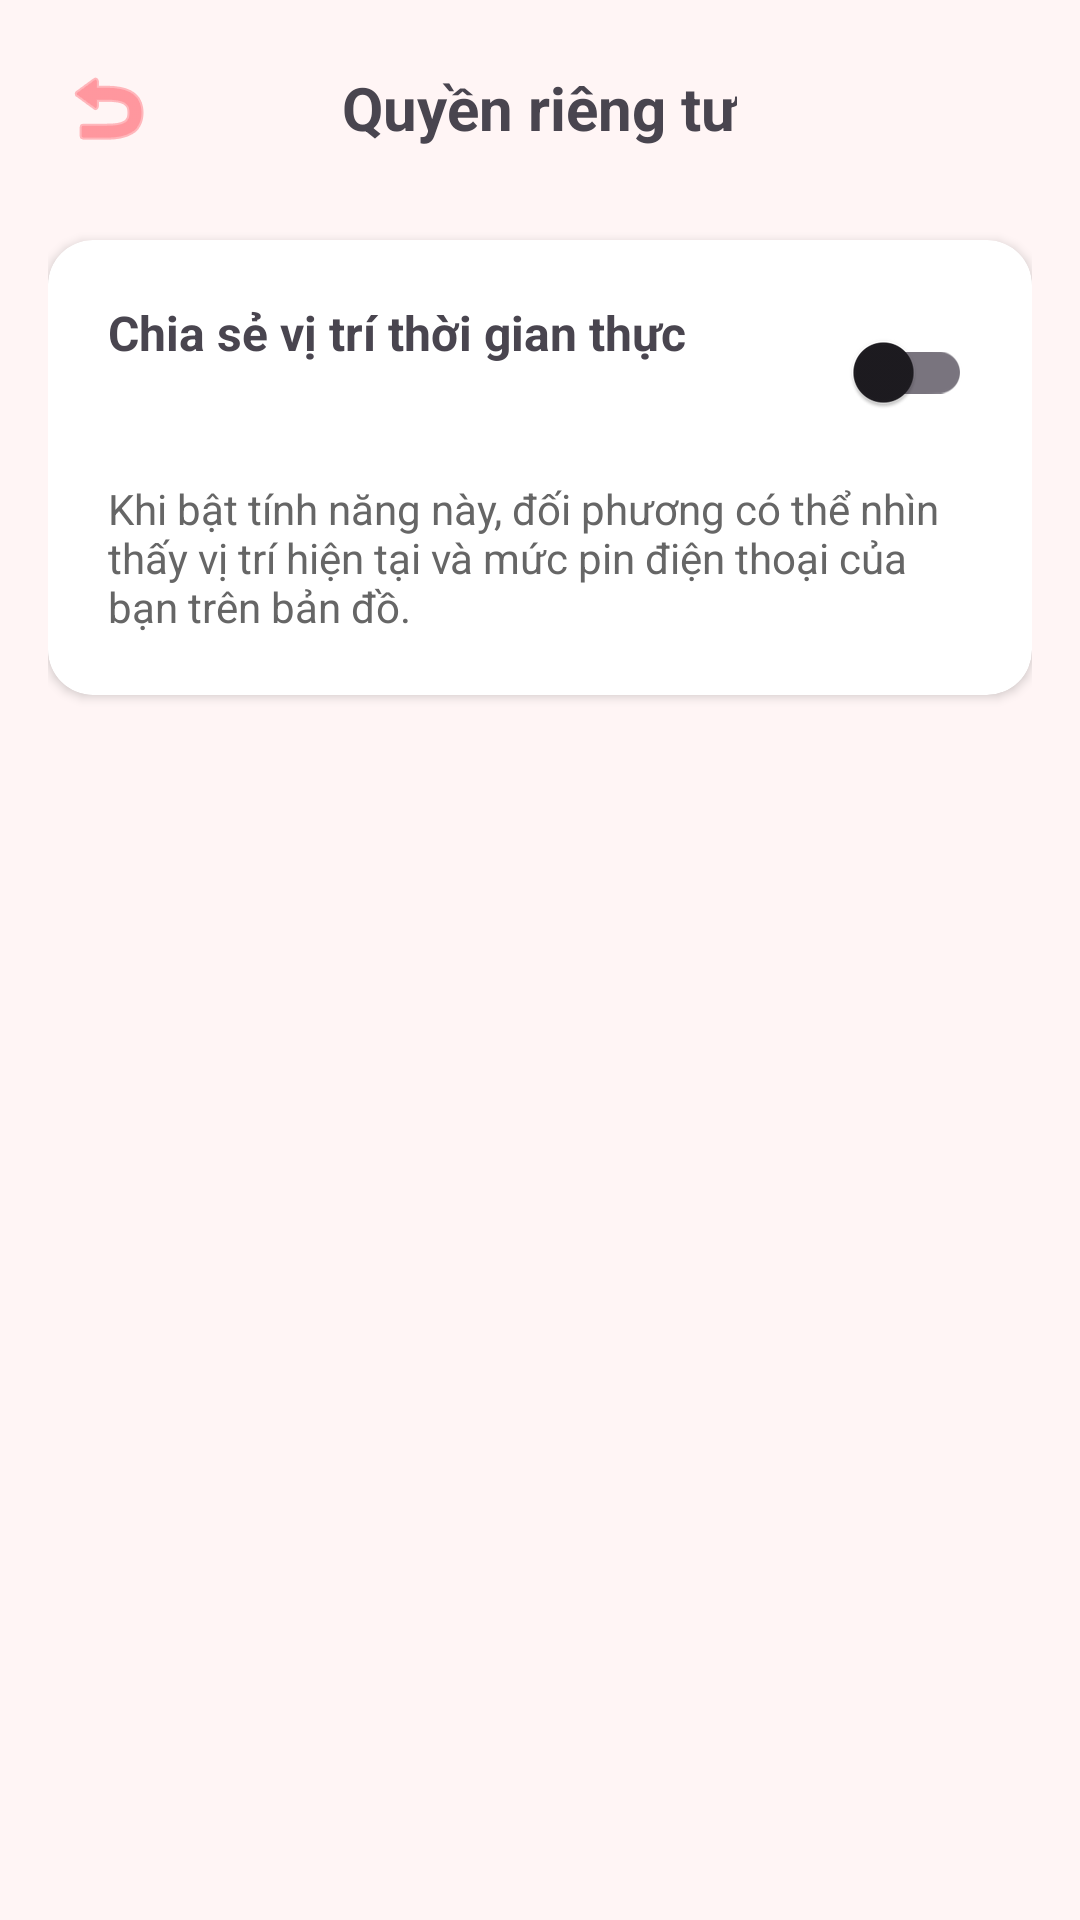

Screen size 1080w x 1920h. Icon name, then its center in pixels as (x,y):
revert: (109,109)
